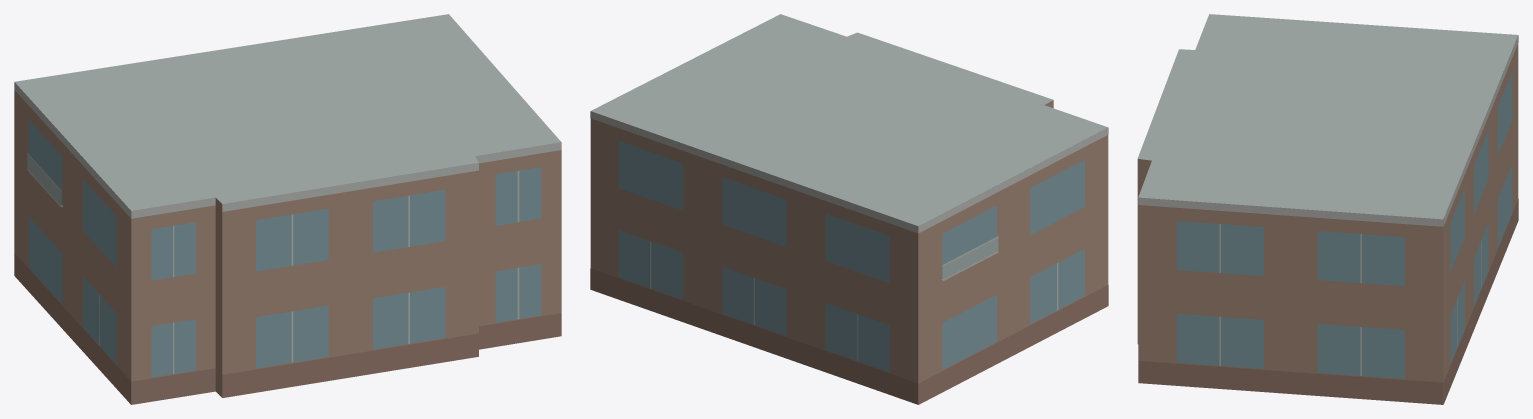
File: survey-upis-32670386.glb
3 renders of one model, left to right at view 1: azimuth 30°, elevation 25°; view 2: azimuth 150°, elevation 25°; view 3: azimuth 270°, elevation 25°, orthographic. The views are drawn at different scales.
Visible parts, largest first — view 1: survey-upis-32670386.tmp; view 2: survey-upis-32670386.tmp; view 3: survey-upis-32670386.tmp.
Boxes of the visible parts, box(x1,y1,x2,y2) form: survey-upis-32670386.tmp: box(14, 14, 561, 404); survey-upis-32670386.tmp: box(590, 14, 1108, 404); survey-upis-32670386.tmp: box(1137, 14, 1518, 404).
Size of the model in its own units: 14.5 by 6.1 by 11.37.
